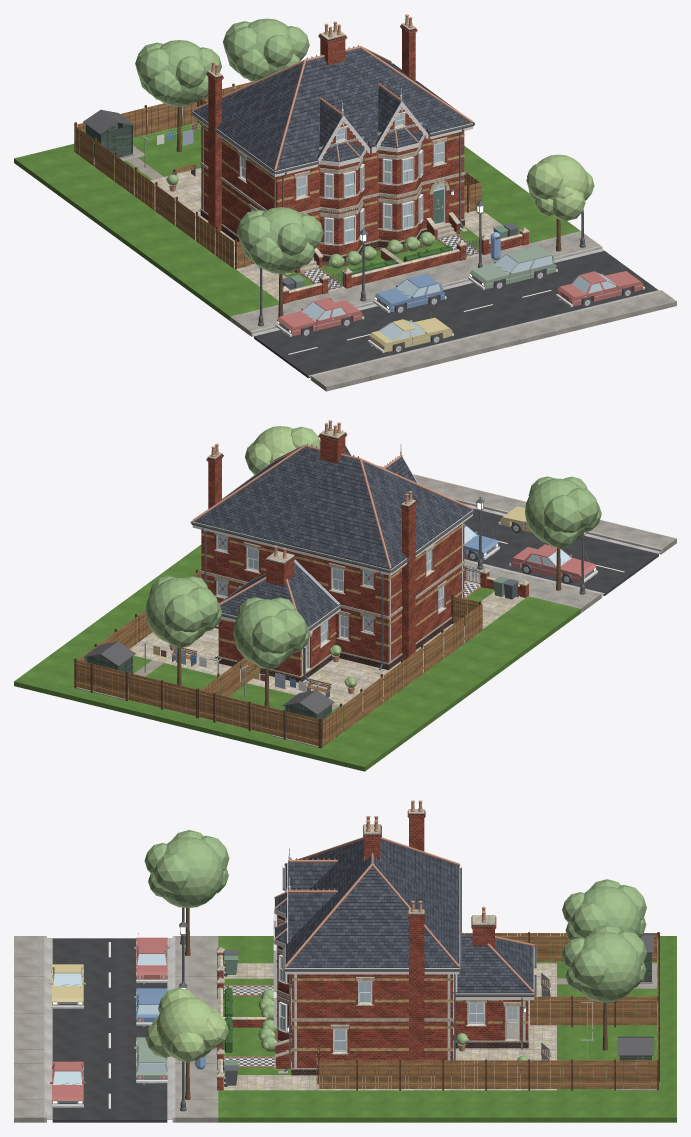
File: building_assembled.glb
3 renders of one model, top to bottom at view 1: azimuth 30°, elevation 25°; view 2: azimuth 150°, elevation 25°; view 3: azimuth 270°, elevation 25°, orthographic. The views are drawn at different scales.
Visible parts, largest first — view 1: geometry_608, geometry_605, geometry_602, geometry_383, geometry_175, geometry_284, geometry_618, geometry_593, geometry_527, geometry_620, geometry_209, geometry_406 (+30 smaller); view 2: geometry_608, geometry_383, geometry_175, geometry_209, geometry_605, geometry_284, geometry_602, geometry_593, geometry_527, geometry_618, geometry_413, geometry_76 (+38 smaller); view 3: geometry_608, geometry_605, geometry_175, geometry_602, geometry_1, geometry_76, geometry_383, geometry_527, geometry_618, geometry_620, geometry_205, geometry_198 (+38 smaller).
Part boxes in pixels (<box>): geometry_608: <box>14,117,580,320</box>; geometry_605: <box>254,251,658,378</box>; geometry_602: <box>230,231,676,391</box>; geometry_383: <box>194,57,373,170</box>; geometry_175: <box>337,48,471,147</box>; geometry_284: <box>201,123,370,212</box>; geometry_618: <box>236,207,323,273</box>; geometry_593: <box>135,40,221,106</box>; geometry_527: <box>223,18,309,82</box>; geometry_620: <box>526,154,594,220</box>; geometry_209: <box>201,165,370,273</box>; geometry_406: <box>114,122,385,286</box>; geometry_608: <box>14,545,580,771</box>; geometry_383: <box>292,456,471,569</box>; geometry_175: <box>194,446,350,545</box>; geometry_209: <box>272,564,464,675</box>; geometry_605: <box>464,509,658,595</box>; geometry_284: <box>295,522,464,616</box>; geometry_602: <box>378,465,676,608</box>; geometry_593: <box>233,597,309,669</box>; geometry_527: <box>145,575,222,647</box>; geometry_618: <box>525,476,601,548</box>; geometry_413: <box>247,564,529,711</box>; geometry_76: <box>201,530,294,581</box>; geometry_608: <box>218,936,676,1122</box>; geometry_605: <box>52,938,167,1122</box>; geometry_175: <box>275,856,459,967</box>; geometry_602: <box>14,936,218,1117</box>; geometry_1: <box>275,993,528,1078</box>; geometry_76: <box>277,945,452,1022</box>; geometry_383: <box>275,839,459,915</box>; geometry_527: <box>562,924,646,1002</box>; geometry_618: <box>144,830,229,907</box>; geometry_620: <box>145,988,228,1062</box>; geometry_205: <box>216,1016,556,1090</box>; geometry_198: <box>223,1026,656,1090</box>.
Size of the model in its own units: 24.15 by 13.1 by 37.
92 materials, 22 textured.
